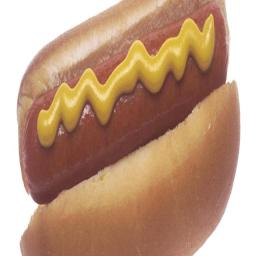hotdog: (18, 0, 243, 256)
